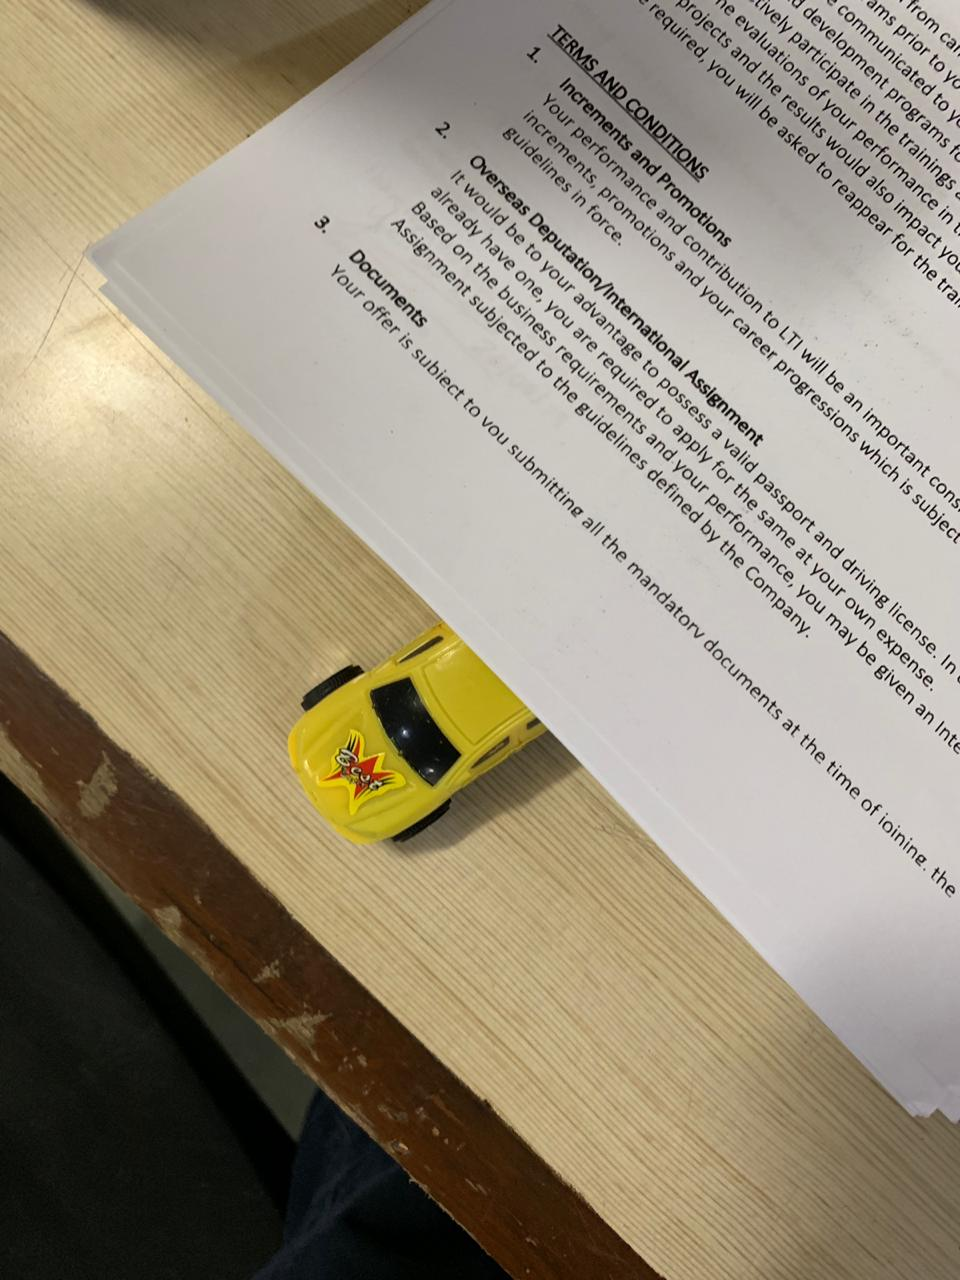car: (234, 653, 557, 848)
